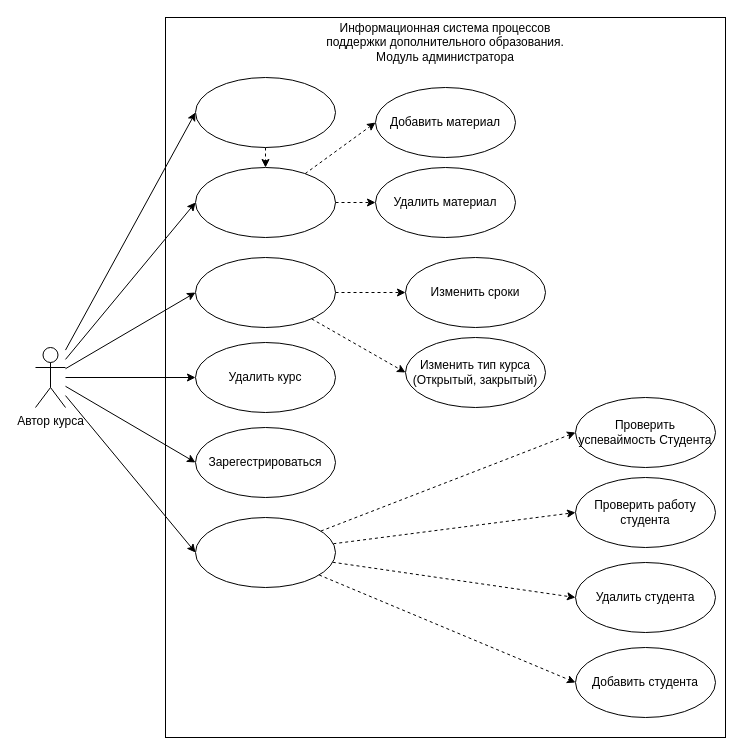
Some shapes in this 743 by 755 pixel diagram are drawn without their labels. The shapes that lost their labels are listed below. From the top down, each one's centre as x and y in pixels, then its label:
At (x=265, y=112): "Создать курс".
At (x=265, y=202): "Изменить содержание и структуру".
At (x=265, y=292): "Настроить курс".
At (x=265, y=552): "Управлять студентами курса".
